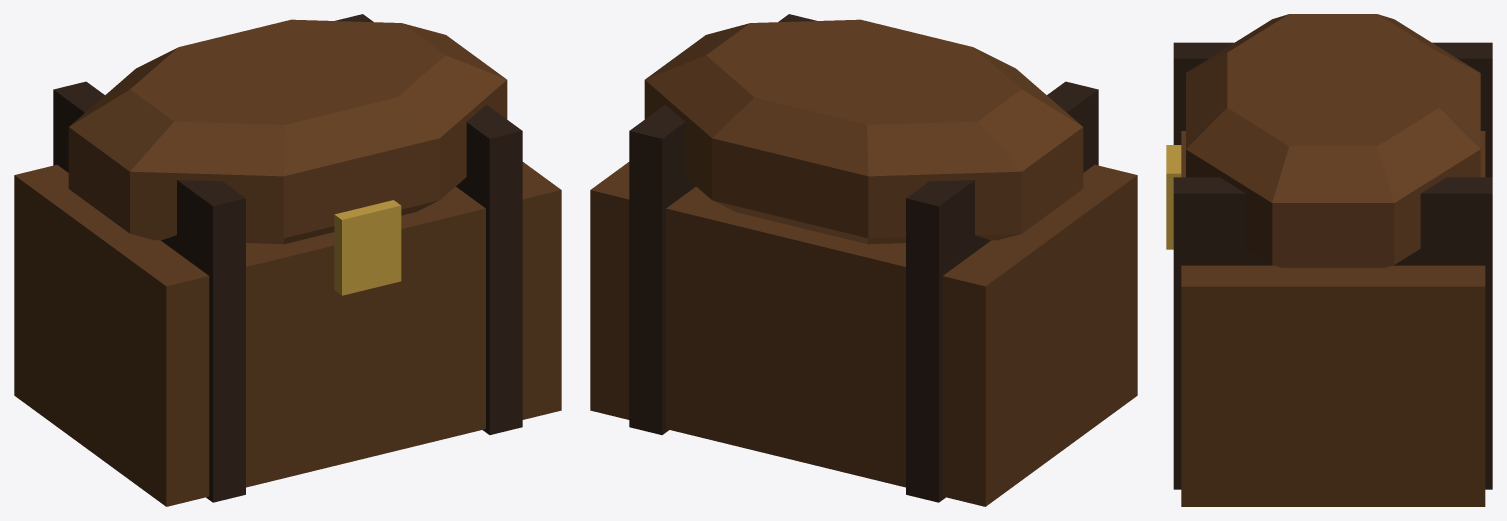
Rendered from chest.glb.
The picture shows the model from 3 angles, left to right: view 1: azimuth 30°, elevation 25°; view 2: azimuth 150°, elevation 25°; view 3: azimuth 270°, elevation 25°; orthographic projection.
Visible parts, largest first — view 1: chest; view 2: chest; view 3: chest.
Part boxes in pixels (x1,y1,x2,y2): chest: (14,14,561,506); chest: (590,14,1137,506); chest: (1166,14,1492,506).
Bounding box in the file's own units: 1.2 × 0.97 × 0.86.
